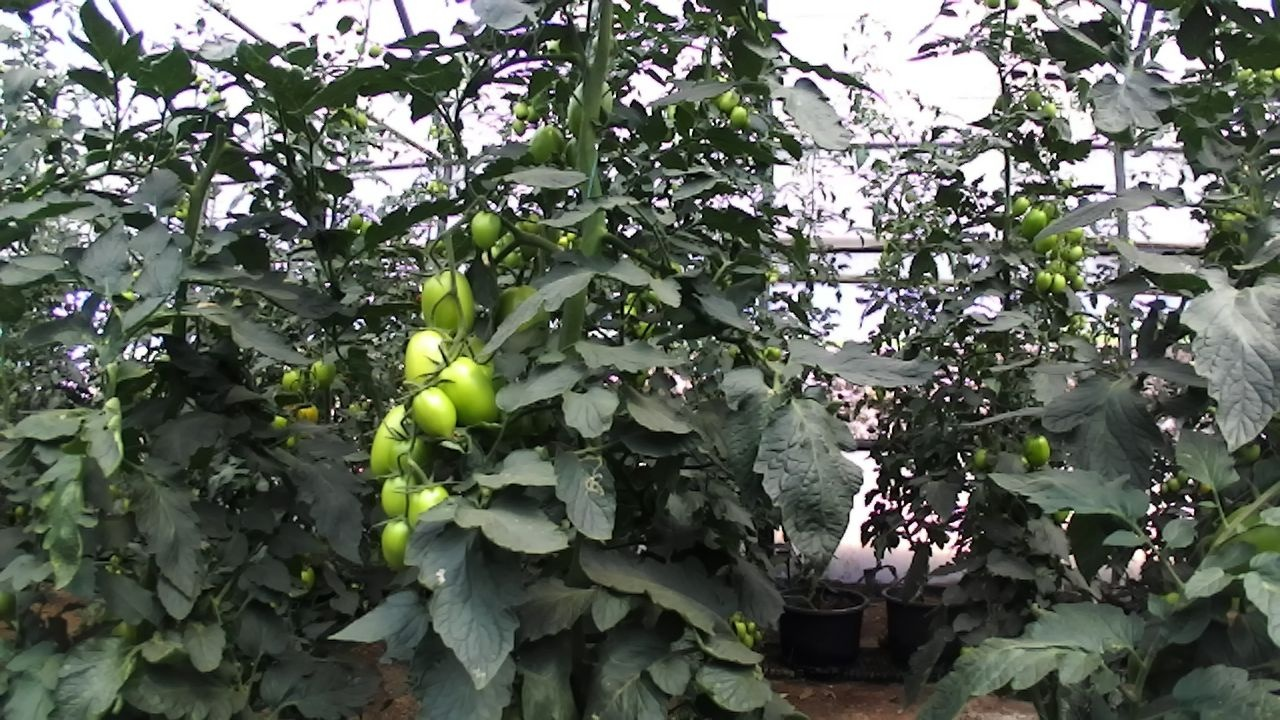tomato: (429, 349, 504, 433), (396, 318, 466, 407), (488, 280, 558, 368), (363, 394, 427, 484), (414, 262, 482, 343), (561, 68, 625, 147), (407, 383, 464, 447), (401, 476, 458, 538), (524, 113, 577, 179), (383, 426, 439, 486), (376, 463, 426, 527), (375, 510, 424, 574), (461, 199, 511, 258), (1015, 423, 1061, 476), (712, 80, 750, 122), (1016, 201, 1053, 244), (290, 396, 326, 435), (306, 353, 340, 392), (278, 361, 312, 399), (726, 100, 754, 135), (1007, 190, 1035, 222), (969, 442, 997, 473), (1031, 228, 1060, 257), (508, 94, 535, 125), (761, 339, 787, 368), (1048, 267, 1070, 299), (1062, 221, 1087, 248), (506, 113, 531, 140), (1036, 98, 1062, 123), (1034, 267, 1058, 294), (522, 100, 545, 128), (1023, 87, 1046, 113), (1062, 241, 1087, 264), (365, 38, 386, 64), (352, 107, 372, 134), (344, 209, 366, 233), (1061, 259, 1083, 282), (1068, 271, 1087, 293), (1165, 474, 1184, 495)
